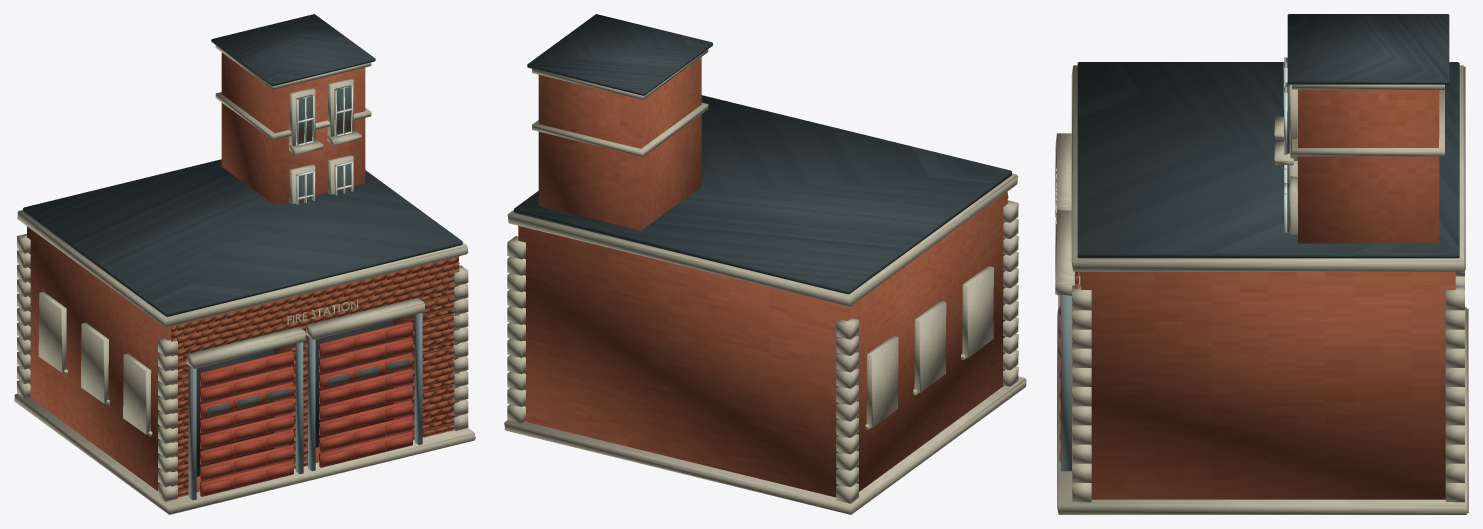
The picture shows the model from 3 angles, left to right: view 1: azimuth 30°, elevation 25°; view 2: azimuth 150°, elevation 25°; view 3: azimuth 270°, elevation 25°; orthographic projection. The views are drawn at different scales.
Parts seen in each view (by area): view 1: fire_station__static_warm_brick, fire_station__static_slate, fire_station__static_limestone, fire_station__apparatus_door_02, fire_station__apparatus_door_01, fire_station__static_patinated_metal, fire_station__static_recess_/_shadow_joints, fire_station__static_warm_glazing, fire_station__static_civic_pale_painted_trim, fire_station__apparatus_door_01__segmented_apparatus_door; view 2: fire_station__static_warm_brick, fire_station__static_slate, fire_station__static_limestone; view 3: fire_station__static_warm_brick, fire_station__static_slate, fire_station__static_limestone, fire_station__static_patinated_metal, fire_station__static_civic_pale_painted_trim.
Boxes of the visible parts, left/top/right/bottom form: fire_station__static_warm_brick: left=27, top=52, right=459, bottom=497; fire_station__static_slate: left=23, top=14, right=462, bottom=316; fire_station__static_limestone: left=14, top=45, right=475, bottom=514; fire_station__apparatus_door_02: left=319, top=321, right=412, bottom=467; fire_station__apparatus_door_01: left=200, top=350, right=293, bottom=488; fire_station__static_patinated_metal: left=188, top=313, right=422, bottom=500; fire_station__static_recess_/_shadow_joints: left=196, top=320, right=393, bottom=476; fire_station__static_warm_glazing: left=296, top=85, right=351, bottom=203; fire_station__static_civic_pale_painted_trim: left=296, top=85, right=353, bottom=204; fire_station__apparatus_door_01__segmented_apparatus_door: left=200, top=460, right=293, bottom=496; fire_station__static_warm_brick: left=518, top=57, right=1008, bottom=497; fire_station__static_slate: left=514, top=14, right=1011, bottom=294; fire_station__static_limestone: left=504, top=49, right=1026, bottom=514; fire_station__static_warm_brick: left=1075, top=89, right=1455, bottom=499; fire_station__static_slate: left=1077, top=14, right=1459, bottom=258; fire_station__static_limestone: left=1055, top=65, right=1468, bottom=514; fire_station__static_patinated_metal: left=1060, top=295, right=1071, bottom=471; fire_station__static_civic_pale_painted_trim: left=1283, top=57, right=1287, bottom=232.
Size of the model in its own units: 8 by 8 by 7.02.
8 materials, 4 textured.
